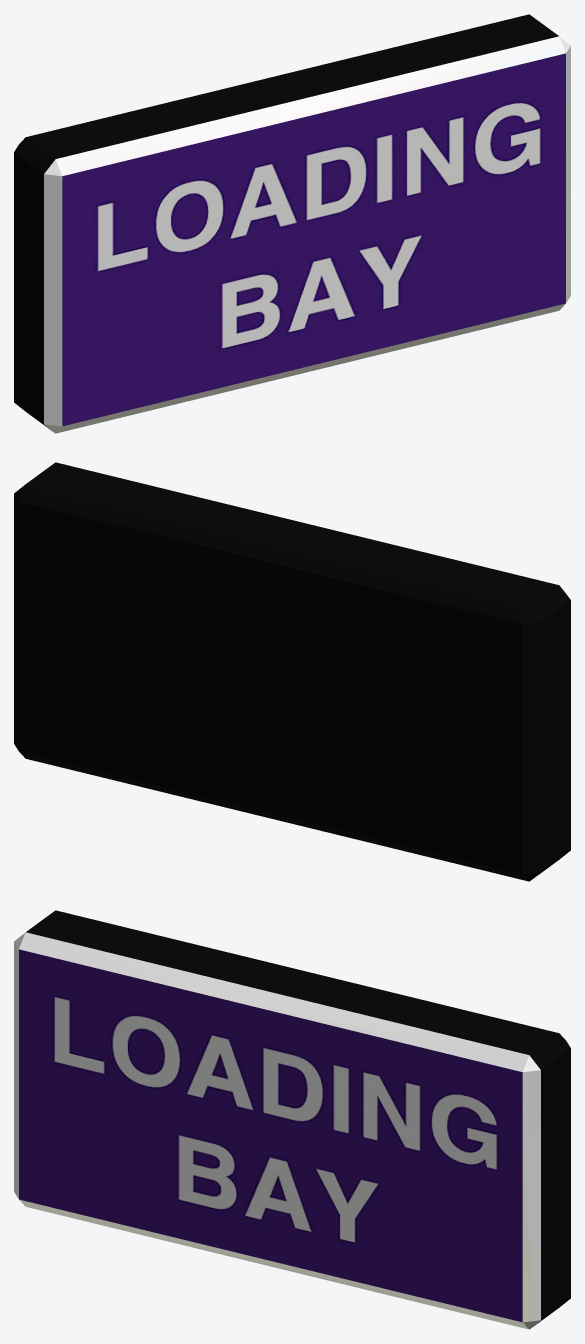
The model's file is Sign_Loading_Bay.fbx.
The picture shows the model from 3 angles, top to bottom: view 1: azimuth 30°, elevation 25°; view 2: azimuth 150°, elevation 25°; view 3: azimuth 330°, elevation 25°; orthographic projection.
Parts seen in each view (by area): view 1: Loading Bay Sign; view 2: Loading Bay Sign; view 3: Loading Bay Sign.
Part boxes in pixels (x1,y1,x2,y2): Loading Bay Sign: [14, 14, 570, 433]; Loading Bay Sign: [14, 462, 570, 881]; Loading Bay Sign: [14, 910, 570, 1329].
Size of the model in its own units: 479 by 238 by 68.31.
